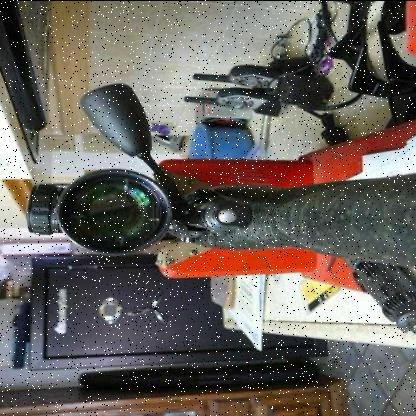rifle: (27, 78, 415, 288)
